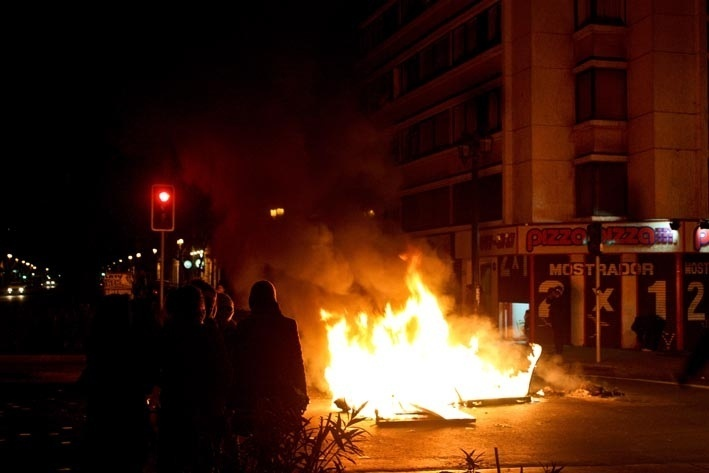fire: (319, 258, 531, 413)
